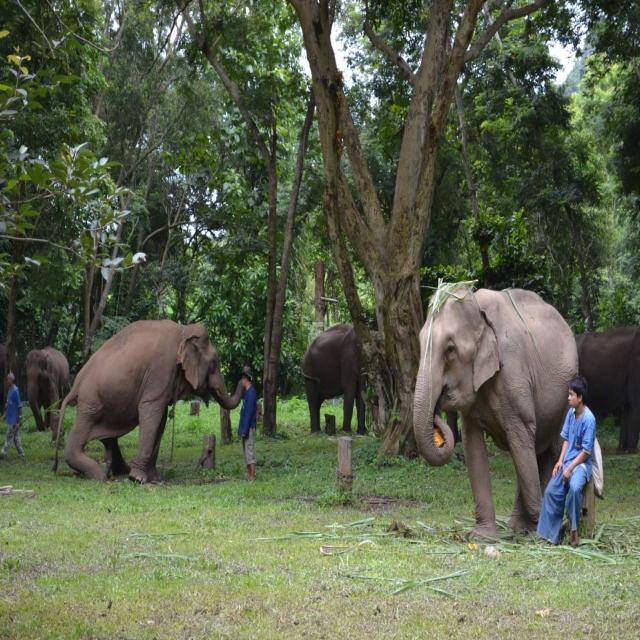Elephant: (399, 247, 602, 556), (46, 306, 255, 492), (301, 298, 371, 436), (14, 331, 73, 440)
